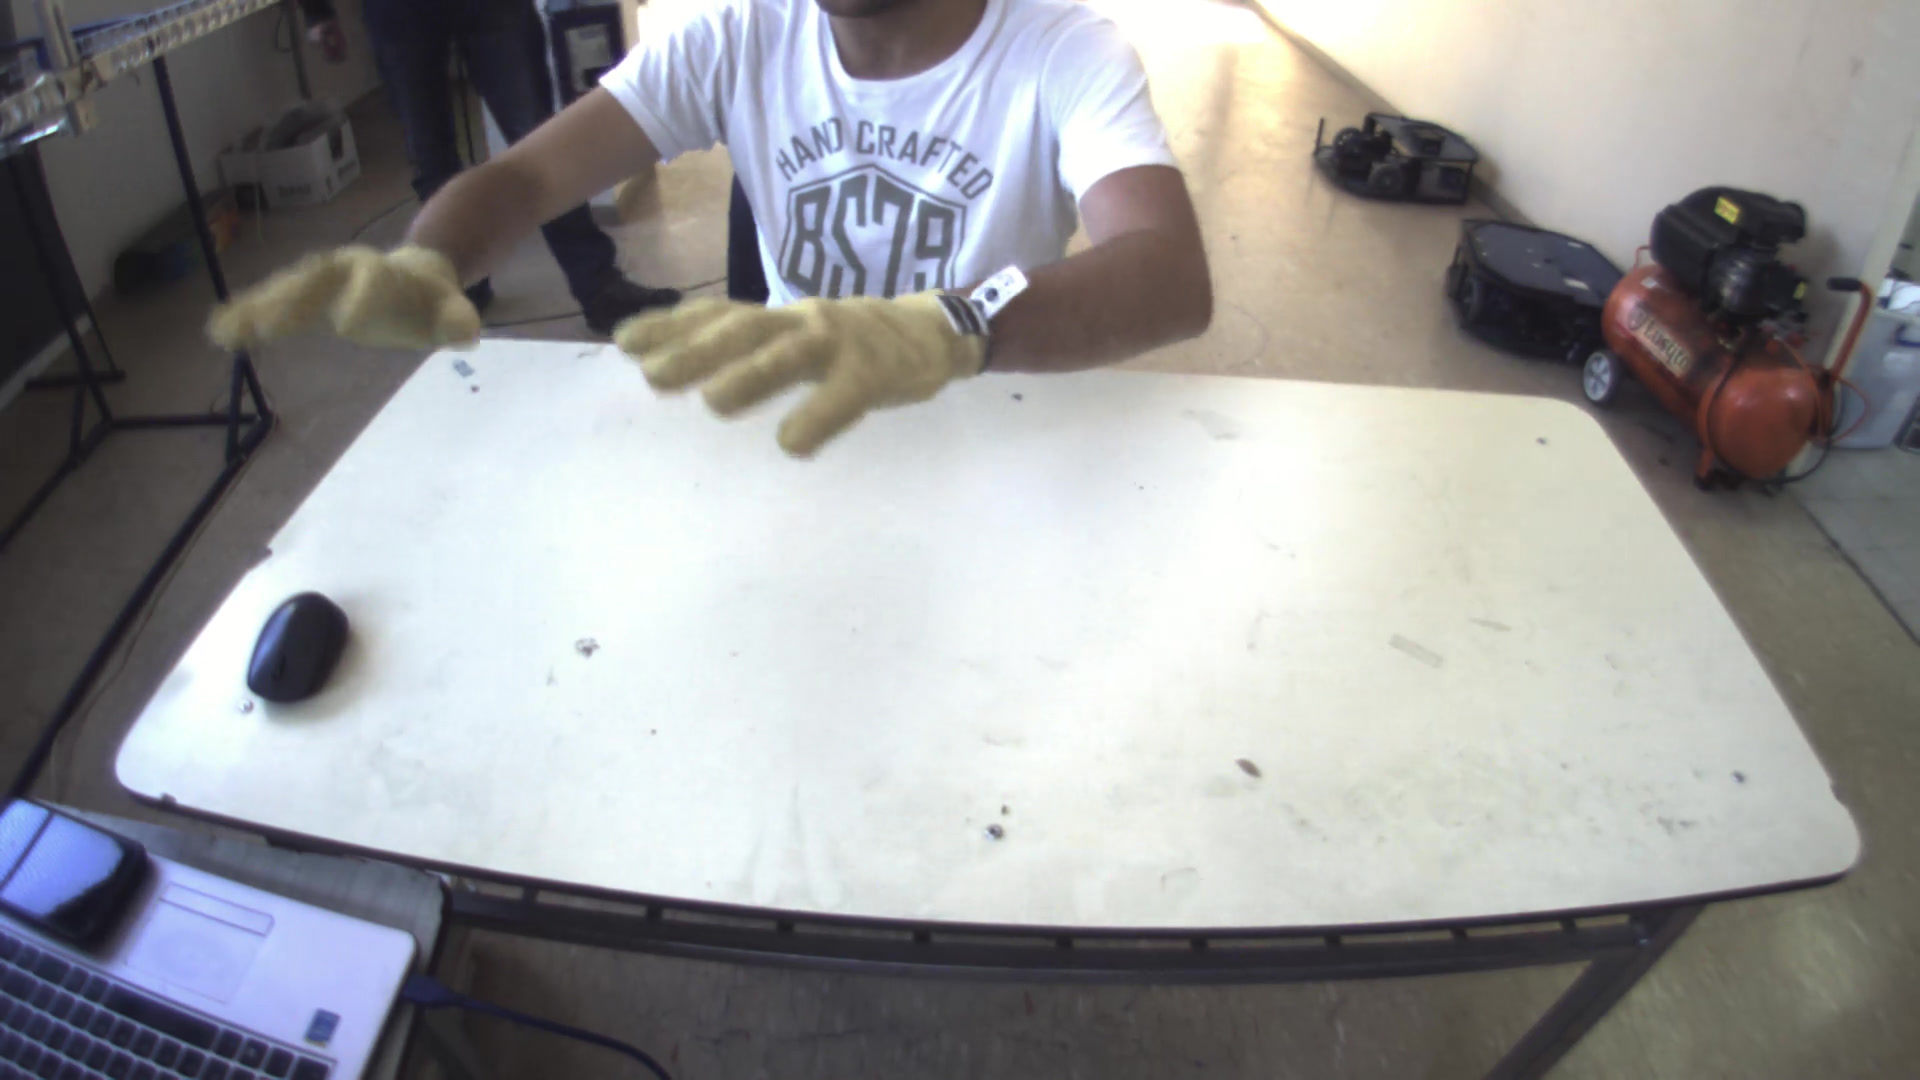hand: (596, 270, 1004, 469), (207, 214, 485, 355)
